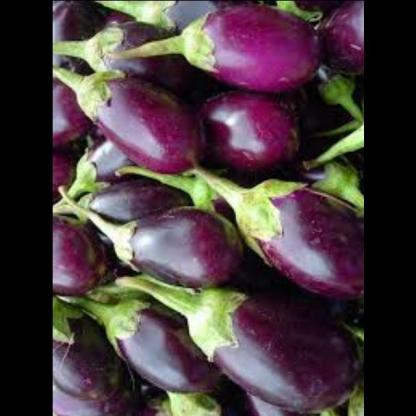eggplant: (194, 154, 363, 318), (161, 273, 347, 415), (55, 56, 215, 182), (156, 4, 330, 114), (82, 287, 226, 400), (68, 203, 230, 294), (188, 84, 320, 192), (57, 12, 194, 93), (65, 165, 203, 241), (52, 307, 122, 416), (52, 206, 109, 304)
